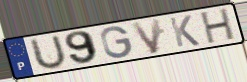9: (65, 30, 101, 67)
G: (99, 25, 134, 60)
H: (200, 7, 237, 46)
K: (168, 14, 202, 48)
U: (29, 33, 68, 72)
V: (129, 16, 163, 56)
